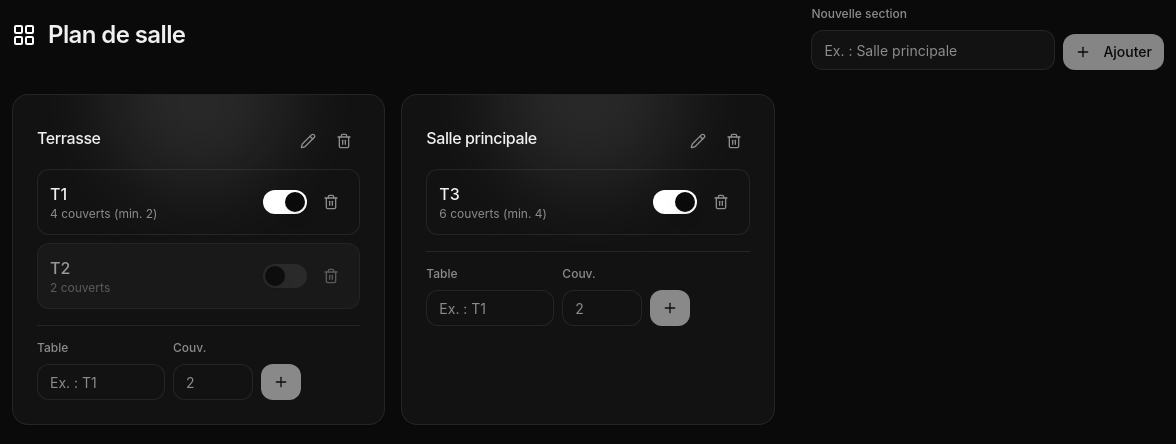
FloorPlanCrud › renomme une section
Expected: the heading "Plan de salle" is shown, [48,19,185,51]
Click the button named "Renommer la section" in the row of "Terrasse" at (308, 141), box [292,125,324,157]
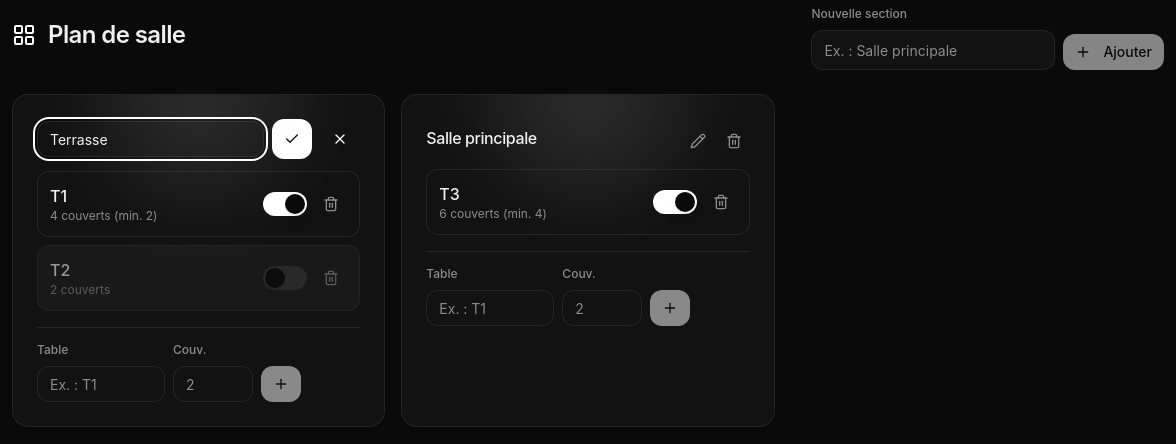
Replace the text in the field named "Nom de la section" with "Terrasse extérieure" at (151, 139), box [37,121,264,157]
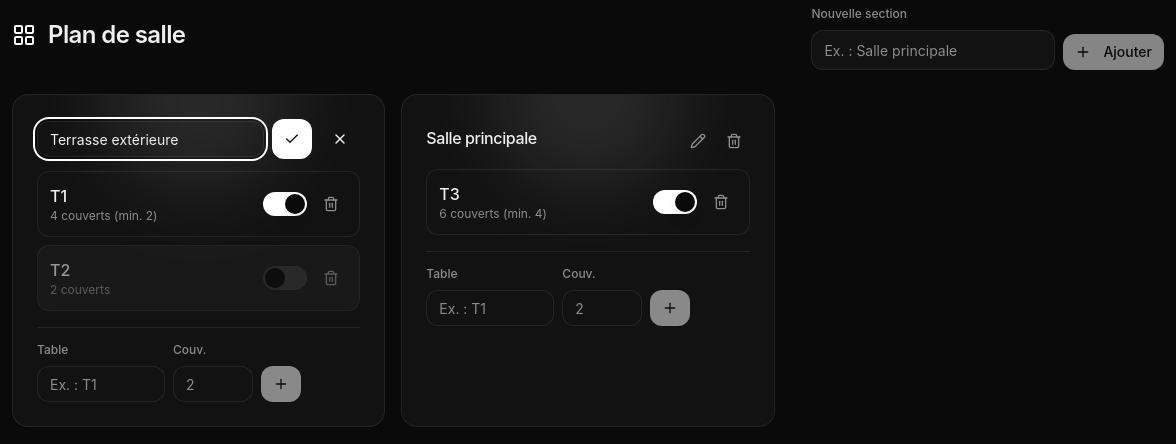
Submit the form named "Nom de la section", box [37,119,360,159]
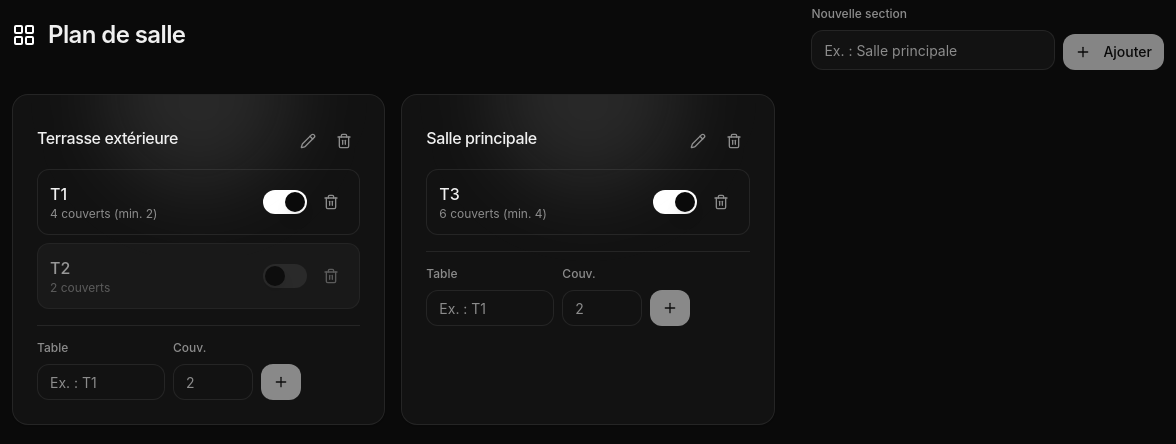
Result: the text "Terrasse extérieure" is shown at [37,126,178,150]
